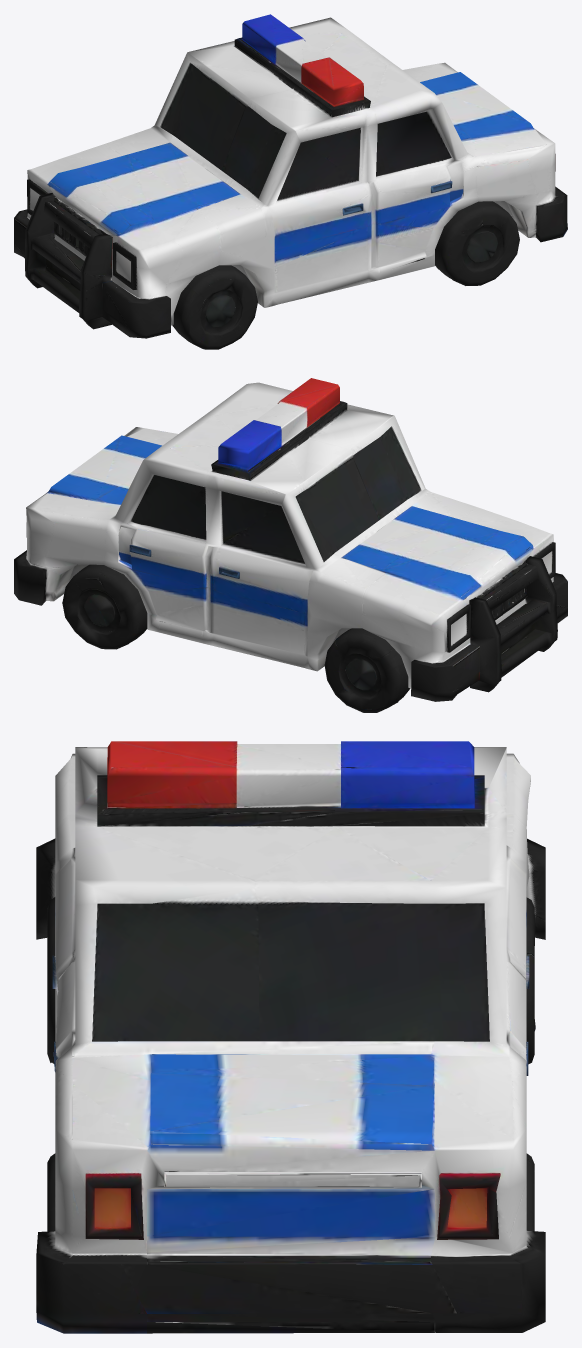
Rendered from police-car.glb.
The picture shows the model from 3 angles, top to bottom: view 1: azimuth 30°, elevation 25°; view 2: azimuth 150°, elevation 25°; view 3: azimuth 270°, elevation 25°; orthographic projection. The views are drawn at different scales.
Visible parts, largest first — view 1: geometry_0; view 2: geometry_0; view 3: geometry_0.
Part boxes in pixels (x1,y1,x2,y2): geometry_0: [14, 14, 567, 349]; geometry_0: [14, 378, 567, 712]; geometry_0: [36, 741, 545, 1333].
Bounding box in the file's own units: 0.9546 × 0.4428 × 0.4604.
Materials: 1 (1 with a texture image).
